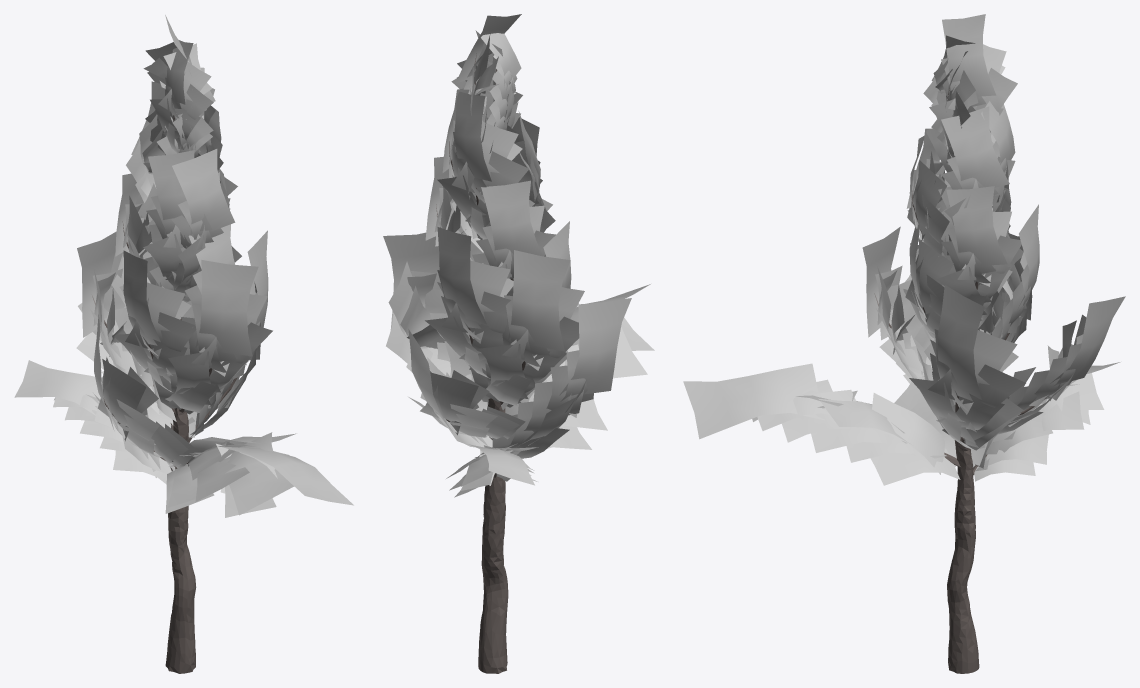
The model's file is koivu2.fbx.
3 renders of one model, left to right at view 1: azimuth 30°, elevation 25°; view 2: azimuth 150°, elevation 25°; view 3: azimuth 270°, elevation 25°, orthographic. The views are drawn at different scales.
Visible parts, largest first — view 1: birch_branch.318, birch_branch.backfaces, runko; view 2: birch_branch.318, birch_branch.backfaces, runko; view 3: birch_branch.318, birch_branch.backfaces, runko.
Boxes of the visible parts, left/top/right/bottom form: birch_branch.318: left=14, top=15, right=353, bottom=517; birch_branch.backfaces: left=15, top=21, right=353, bottom=517; runko: left=92, top=115, right=237, bottom=673; birch_branch.318: left=383, top=14, right=654, bottom=497; birch_branch.backfaces: left=386, top=14, right=653, bottom=495; runko: left=436, top=53, right=525, bottom=673; birch_branch.318: left=683, top=14, right=1125, bottom=485; birch_branch.backfaces: left=690, top=15, right=1123, bottom=484; runko: left=874, top=88, right=1046, bottom=673.
Size of the model in its own units: 243 by 730 by 449.
